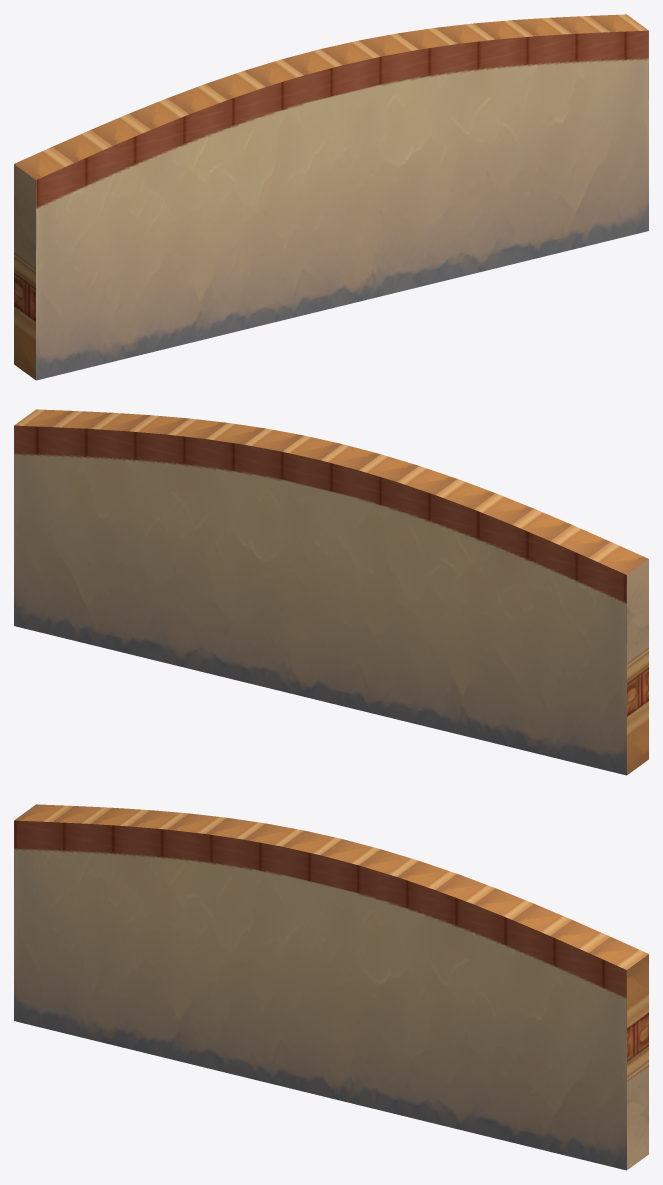
The model's file is SPN_Parapet4.fbx.
3 views of the same model, one above another, from view 1: azimuth 30°, elevation 25°; view 2: azimuth 150°, elevation 25°; view 3: azimuth 330°, elevation 25° (orthographic).
Parts seen in each view (by area): view 1: SPN_Parapet4; view 2: SPN_Parapet4; view 3: SPN_Parapet4.
Part boxes in pixels (box(x1,y1,x2,y2)): SPN_Parapet4: box(14, 14, 648, 380); SPN_Parapet4: box(14, 409, 648, 775); SPN_Parapet4: box(14, 804, 648, 1170).
Size of the model in its own units: 4 by 0.25 by 1.5.
1 material, 1 textured.
